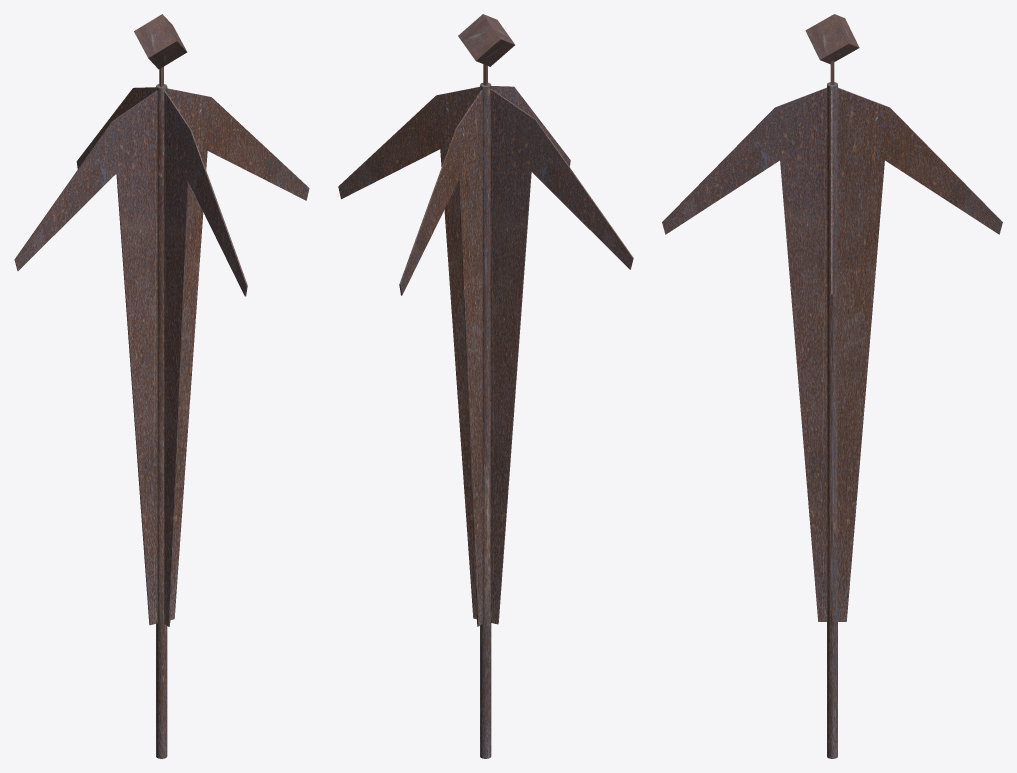
File: designator3.obj
3 views of the same model, side by side, from view 1: azimuth 30°, elevation 25°; view 2: azimuth 150°, elevation 25°; view 3: azimuth 270°, elevation 25° (orthographic).
Visible parts, largest first — view 1: telo1, telo2, tyc, hlava2; view 2: telo1, telo2, tyc, hlava2; view 3: telo2, tyc, hlava2, telo1.
Boxes of the visible parts, x1=… form: telo1: x1=14, y1=88, x2=309, y2=625; telo2: x1=76, y1=87, x2=247, y2=626; tyc: x1=156, y1=84, x2=167, y2=758; hlava2: x1=134, y1=14, x2=187, y2=69; telo1: x1=338, y1=86, x2=633, y2=624; telo2: x1=399, y1=86, x2=570, y2=626; tyc: x1=480, y1=82, x2=491, y2=758; hlava2: x1=458, y1=14, x2=514, y2=66; telo2: x1=662, y1=87, x2=1002, y2=621; tyc: x1=827, y1=82, x2=837, y2=758; hlava2: x1=805, y1=14, x2=859, y2=64; telo1: x1=831, y1=89, x2=832, y2=627.
Bounding box in the file's own units: 1.25 × 3 × 1.25.
